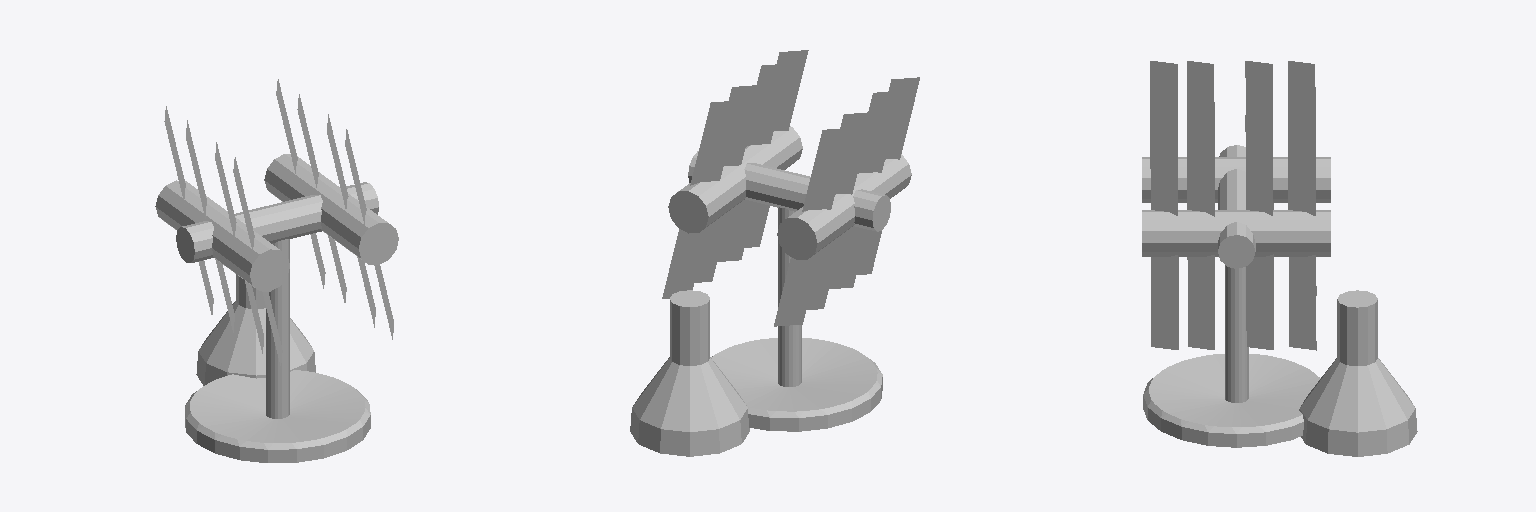
File: sciencestation.obj
3 renders of one model, left to right at view 1: azimuth 30°, elevation 25°; view 2: azimuth 150°, elevation 25°; view 3: azimuth 270°, elevation 25°, orthographic.
Parts seen in each view (by area): view 1: pCylinder1, pCylinder6, pCylinder3, pCylinder7, pCylinder2, pPlane1, pPlane5, pPlane3, pPlane2, pPlane6, pPlane7, pPlane4 (+1 smaller); view 2: pCylinder1, pCylinder7, pCylinder6, pCylinder3, pPlane4, pPlane8, pCylinder2, pPlane2, pPlane6, pPlane3, pPlane7, pPlane1 (+1 smaller); view 3: pCylinder1, pCylinder7, pCylinder6, pPlane5, pPlane8, pPlane6, pPlane7, pCylinder3, pCylinder2, pPlane1, pPlane4, pPlane2 (+1 smaller).
Boxes of the visible parts, box(x1,y1,x2,y2) form: pCylinder1: box(185, 239, 370, 462); pCylinder6: box(264, 154, 398, 264); pCylinder3: box(155, 180, 289, 291); pCylinder7: box(196, 274, 315, 385); pCylinder2: box(176, 182, 378, 262); pPlane1: box(233, 157, 282, 365); pPlane5: box(345, 129, 393, 339); pPlane3: box(186, 120, 234, 332); pPlane2: box(215, 142, 263, 353); pPlane6: box(327, 114, 375, 327); pPlane7: box(297, 94, 346, 302); pPlane4: box(164, 106, 213, 314); pCylinder1: box(711, 207, 882, 431); pCylinder7: box(630, 290, 749, 456); pCylinder6: box(668, 126, 802, 233); pCylinder3: box(777, 154, 911, 259); pPlane4: box(774, 128, 851, 326); pPlane8: box(662, 100, 739, 298); pCylinder2: box(688, 151, 890, 231); pPlane2: box(829, 91, 901, 288); pPlane6: box(717, 63, 789, 261); pPlane3: box(807, 112, 872, 309); pPlane7: box(695, 85, 760, 282); pPlane1: box(857, 77, 919, 274); pCylinder1: box(1143, 265, 1320, 447); pCylinder7: box(1299, 290, 1417, 456); pCylinder6: box(1142, 210, 1330, 256); pPlane5: box(1150, 115, 1178, 349); pPlane8: box(1288, 115, 1316, 350); pPlane6: box(1187, 115, 1214, 349); pPlane7: box(1245, 115, 1273, 349); pCylinder3: box(1142, 157, 1330, 202); pCylinder2: box(1218, 145, 1255, 268); pPlane1: box(1150, 61, 1178, 264); pPlane4: box(1288, 61, 1316, 295); pPlane2: box(1187, 61, 1214, 155).
Size of the model in its own units: 4.5 by 7.31 by 5.81.